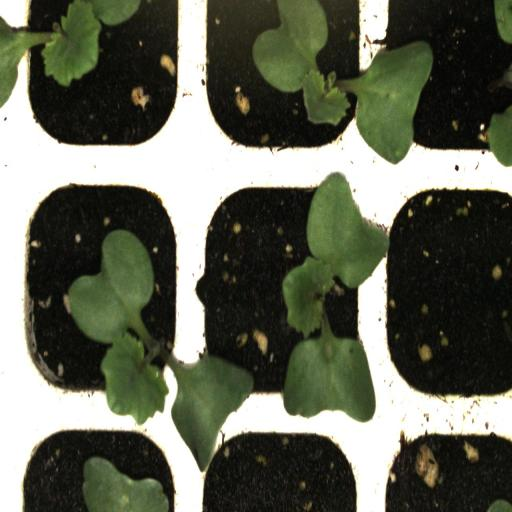noseedling: (380, 166, 512, 417)
seedling: (10, 164, 192, 424), (191, 172, 379, 419), (192, 0, 374, 164), (12, 0, 194, 163)
